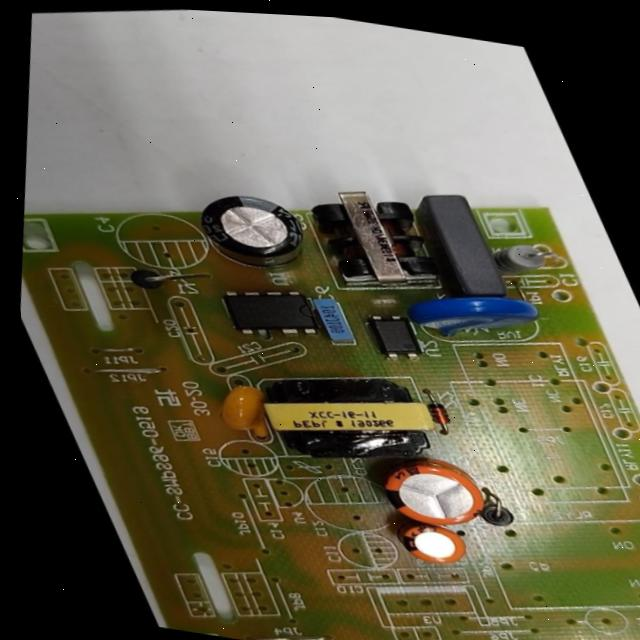Cap1: (362, 443, 502, 542)
Cap2: (393, 516, 480, 575)
Cap3: (182, 180, 328, 287)
MOSFET: (216, 276, 326, 346)
Mov: (399, 278, 549, 354)
Resistor: (484, 233, 566, 283)
Transformer: (241, 348, 461, 482), (292, 172, 455, 301)
